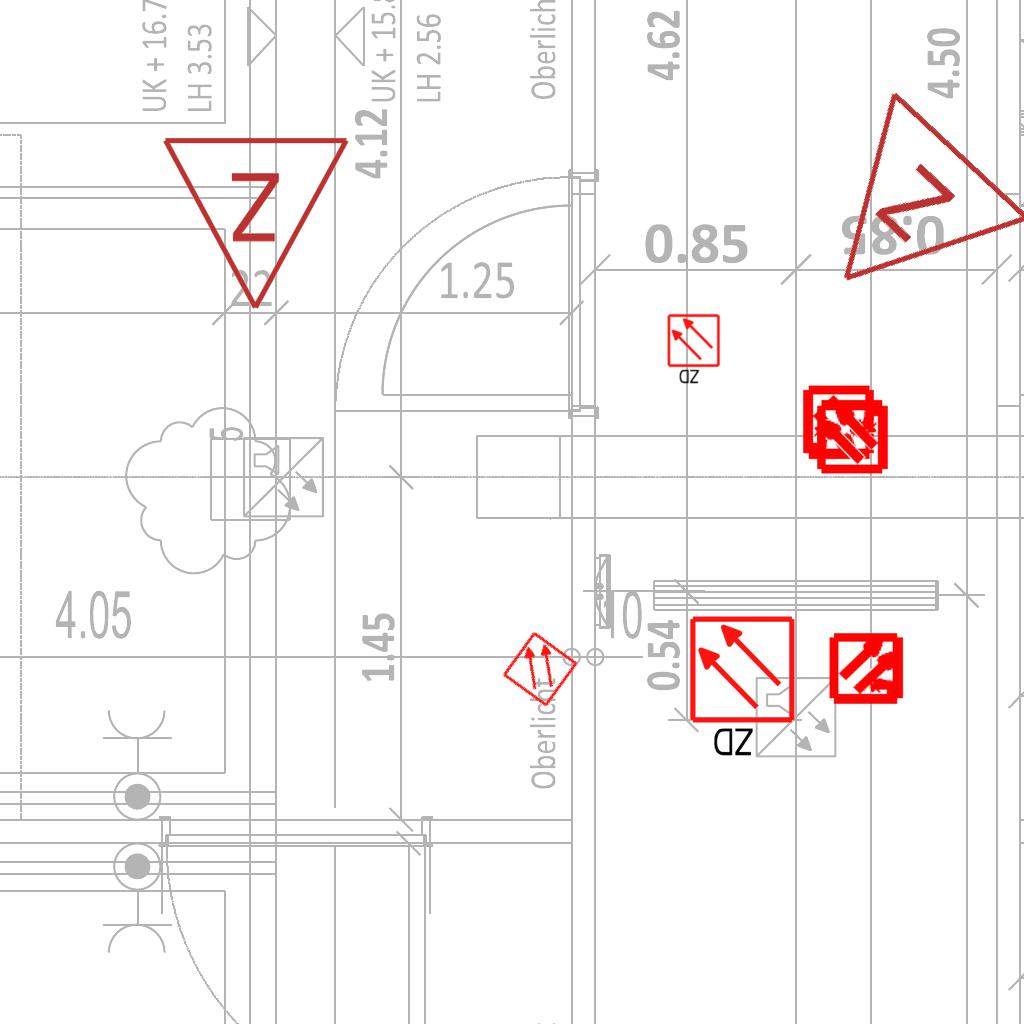OT_Multisensormelder_(Kombination_RMO_WMD): (782, 368, 895, 481), (812, 612, 925, 725), (796, 378, 909, 491)
RMO_Rauchmelder_optischer: (500, 629, 580, 709)
ZD_Melder_in_Zwischendecke_mit_Revisionsoeffnung_mind_40_x_40_cm: (687, 614, 801, 763), (666, 313, 723, 387)
Zimmersignalleuchte: (766, 78, 1024, 358), (160, 123, 356, 323)
